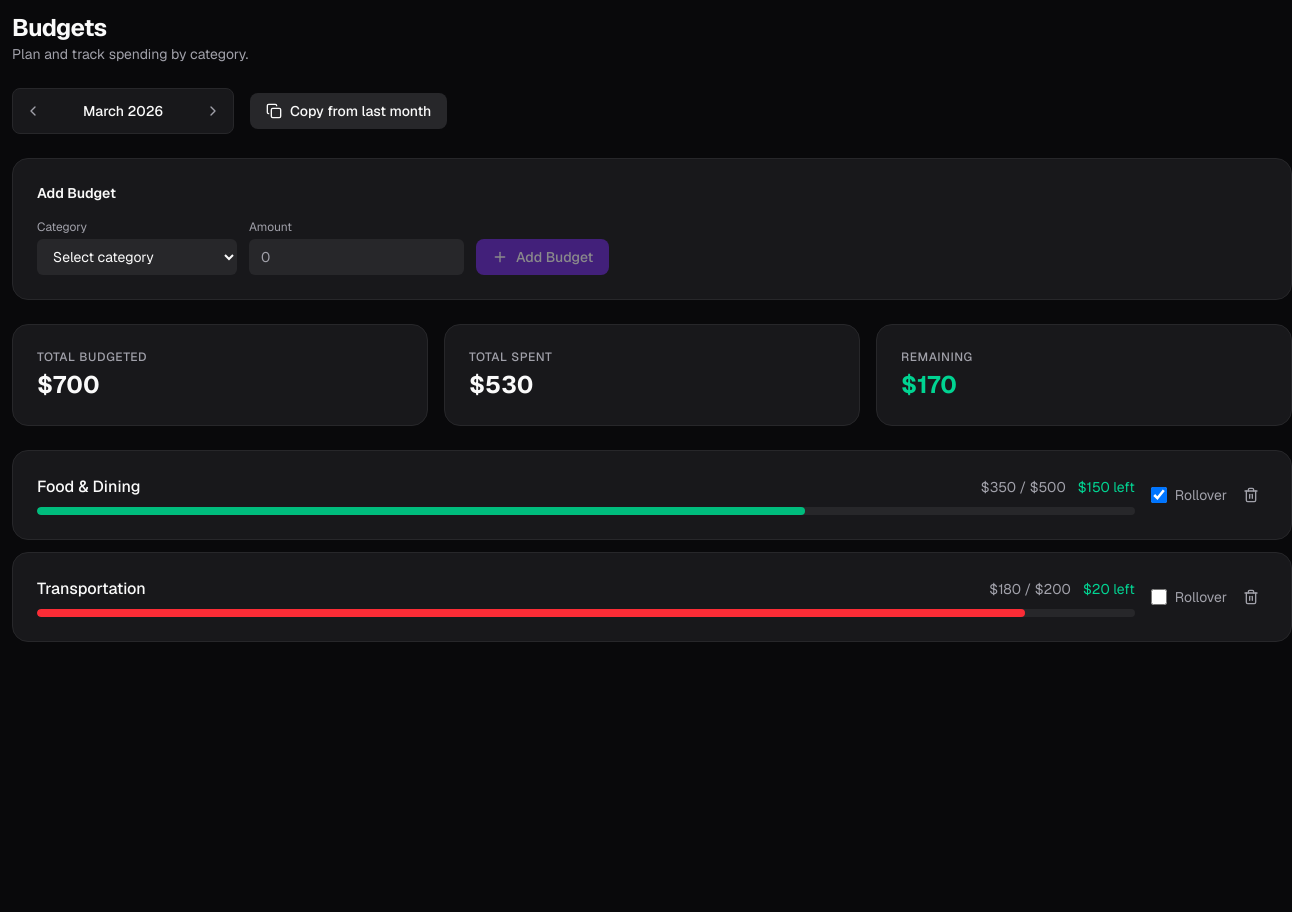
BudgetsPage › clicking a budget amount opens an inline edit input
Check: the text "Food & Dining" is shown, box [37, 475, 141, 499]
Click the button "$500": [1048, 487] box [1030, 477, 1066, 497]
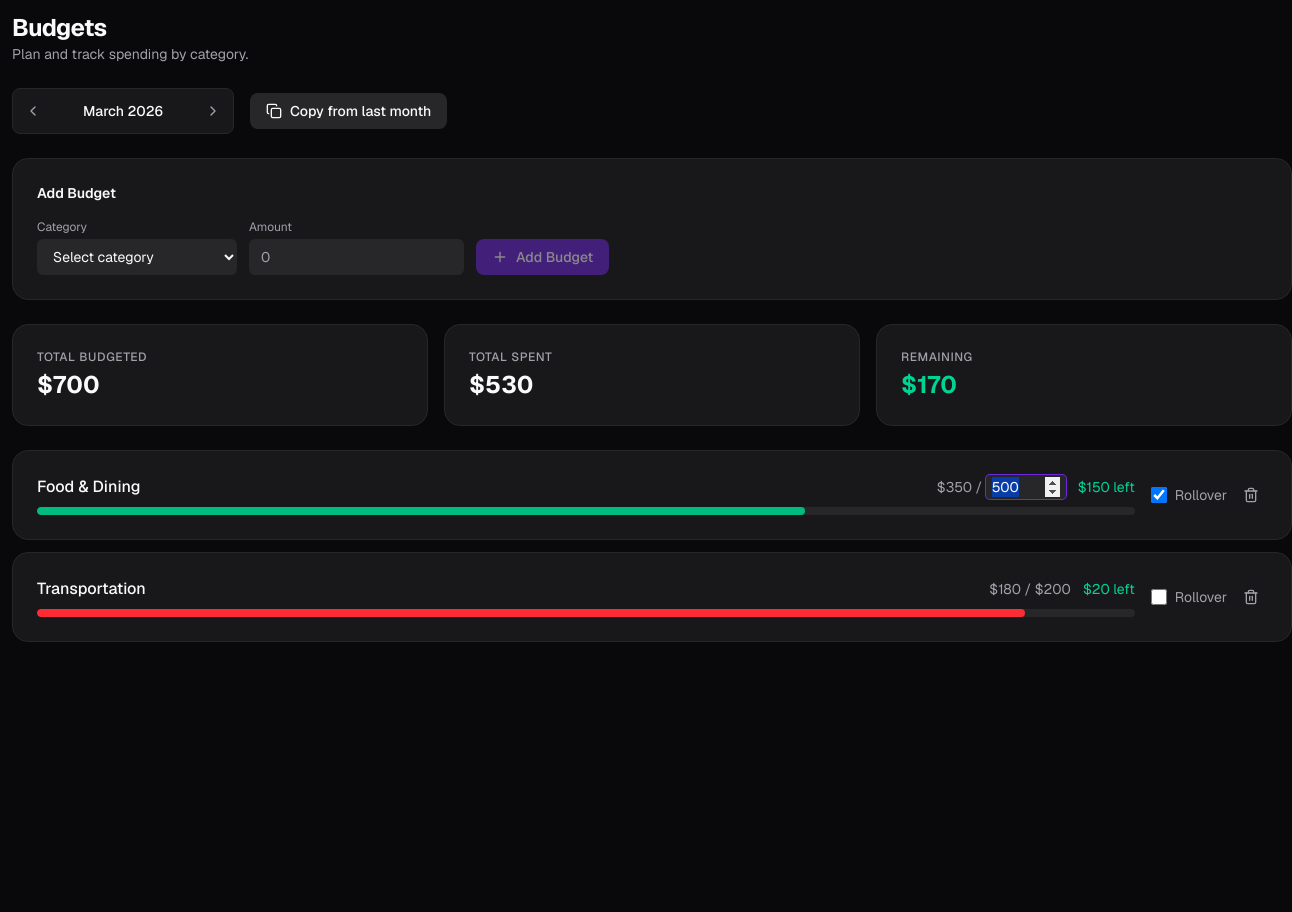
Check: the number field showing "500" is shown, box [986, 475, 1066, 499]
